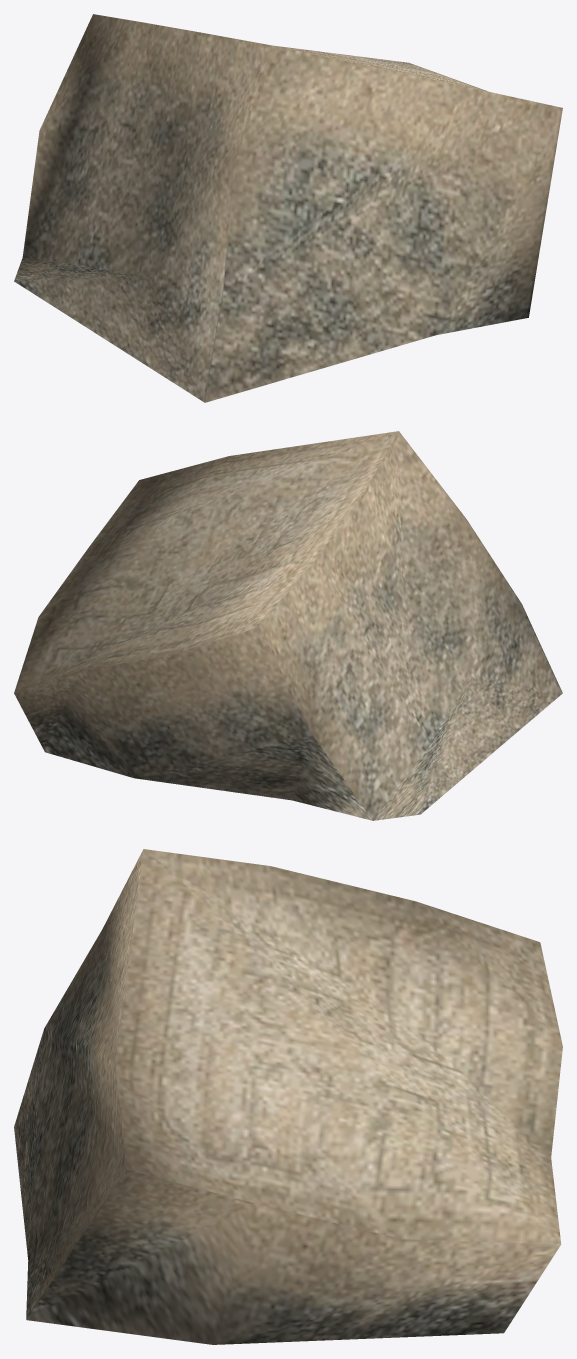
The model's file is desert-bigstone03_lod_01.glb.
The picture shows the model from 3 angles, top to bottom: view 1: azimuth 30°, elevation 25°; view 2: azimuth 150°, elevation 25°; view 3: azimuth 270°, elevation 25°; orthographic projection. The views are drawn at different scales.
Parts seen in each view (by area): view 1: desert-bigstone; view 2: desert-bigstone; view 3: desert-bigstone.
Part boxes in pixels (x1,y1,x2,y2): desert-bigstone: (14, 14, 562, 402); desert-bigstone: (14, 431, 562, 820); desert-bigstone: (14, 849, 562, 1344).
Size of the model in its own units: 4.16 by 2.7 by 3.85.
1 material, 1 textured.
